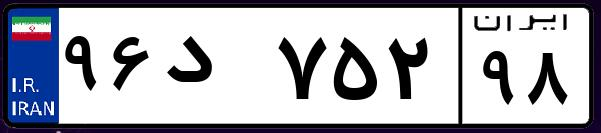2: (385, 28, 445, 110)
5: (330, 28, 385, 110)
6: (110, 28, 158, 98)
7: (270, 28, 330, 110)
8: (525, 38, 570, 115)
9: (57, 26, 110, 100), (475, 38, 525, 113)
د: (158, 20, 270, 120)
